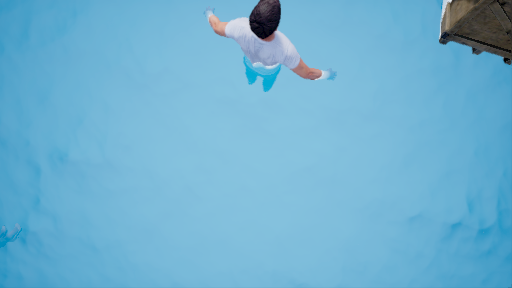person: (196, 1, 339, 91)
